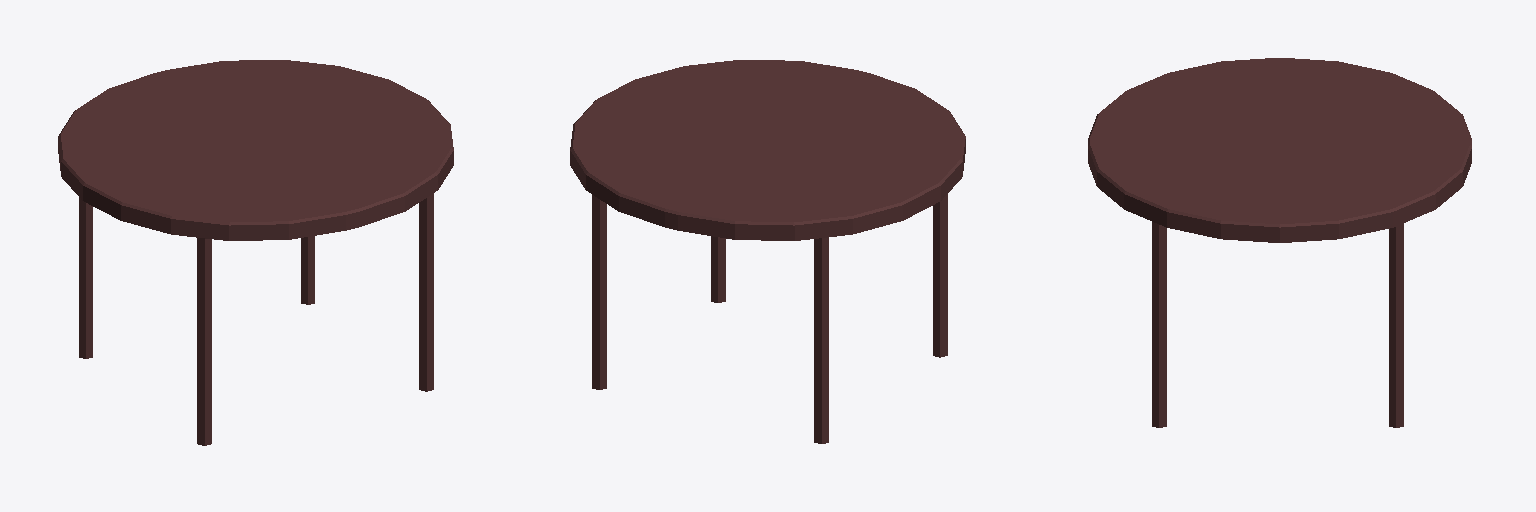
File: table4.obj
3 renders of one model, left to right at view 1: azimuth 30°, elevation 25°; view 2: azimuth 150°, elevation 25°; view 3: azimuth 270°, elevation 25°, orthographic.
Visible parts, largest first — view 1: table4; view 2: table4; view 3: table4.
Boxes of the visible parts, box(x1,y1,x2,y2) form: table4: box(58, 60, 453, 445); table4: box(570, 60, 965, 443); table4: box(1088, 58, 1471, 427).
Bounding box in the file's own units: 0.9636 × 0.6117 × 0.9273.